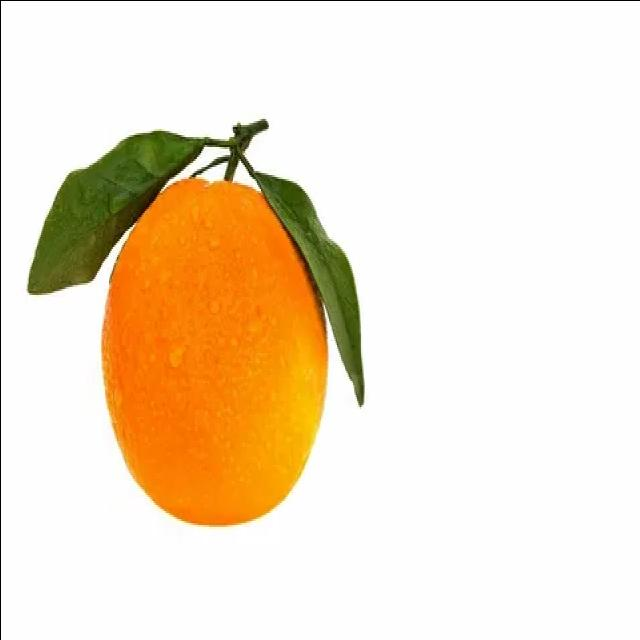orange: (67, 68, 388, 570)
